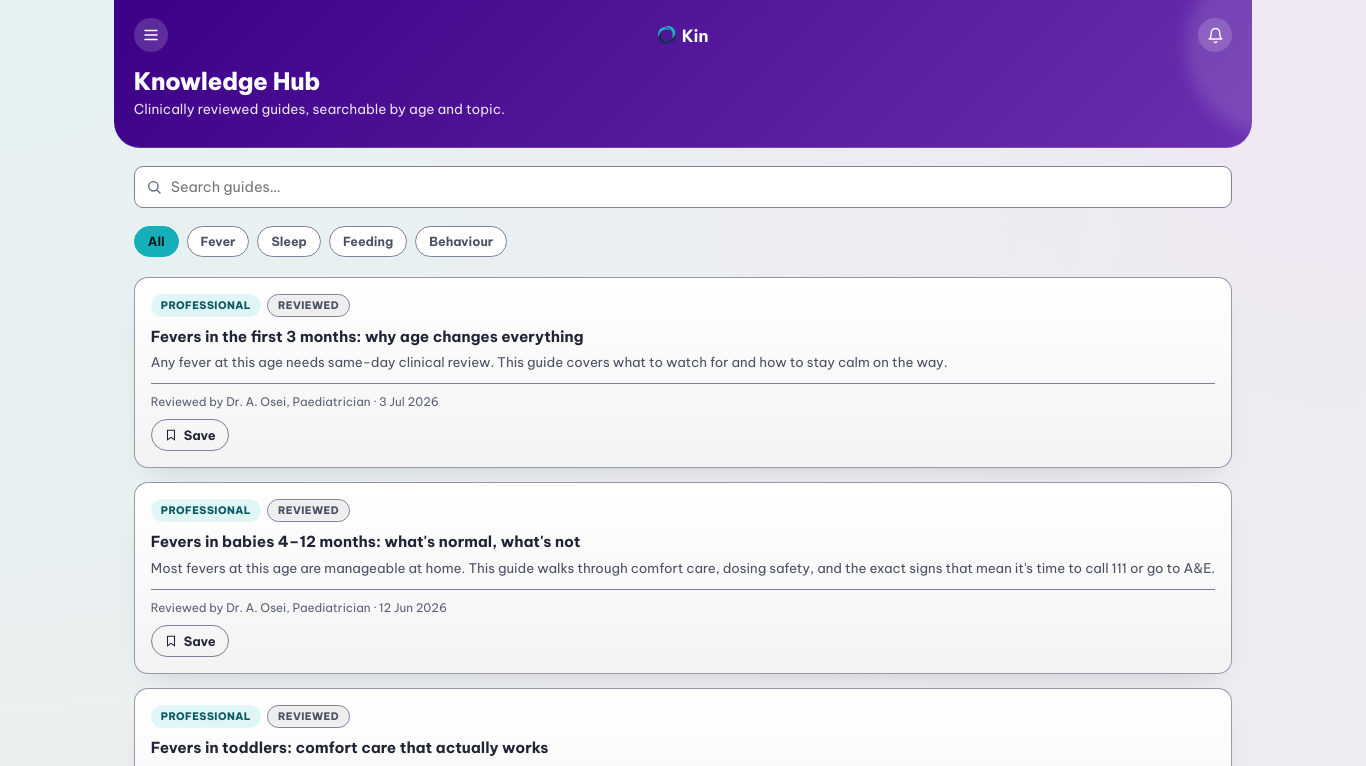
Test case: KnowledgeTab › filters by search text across title and excerpt
Type "chickenpox-does-not-match-anything" into the field with test id "knowledge-search".
click(683, 187); type("chickenpox-does-not-match-anything")  # box [134,166,1232,208]
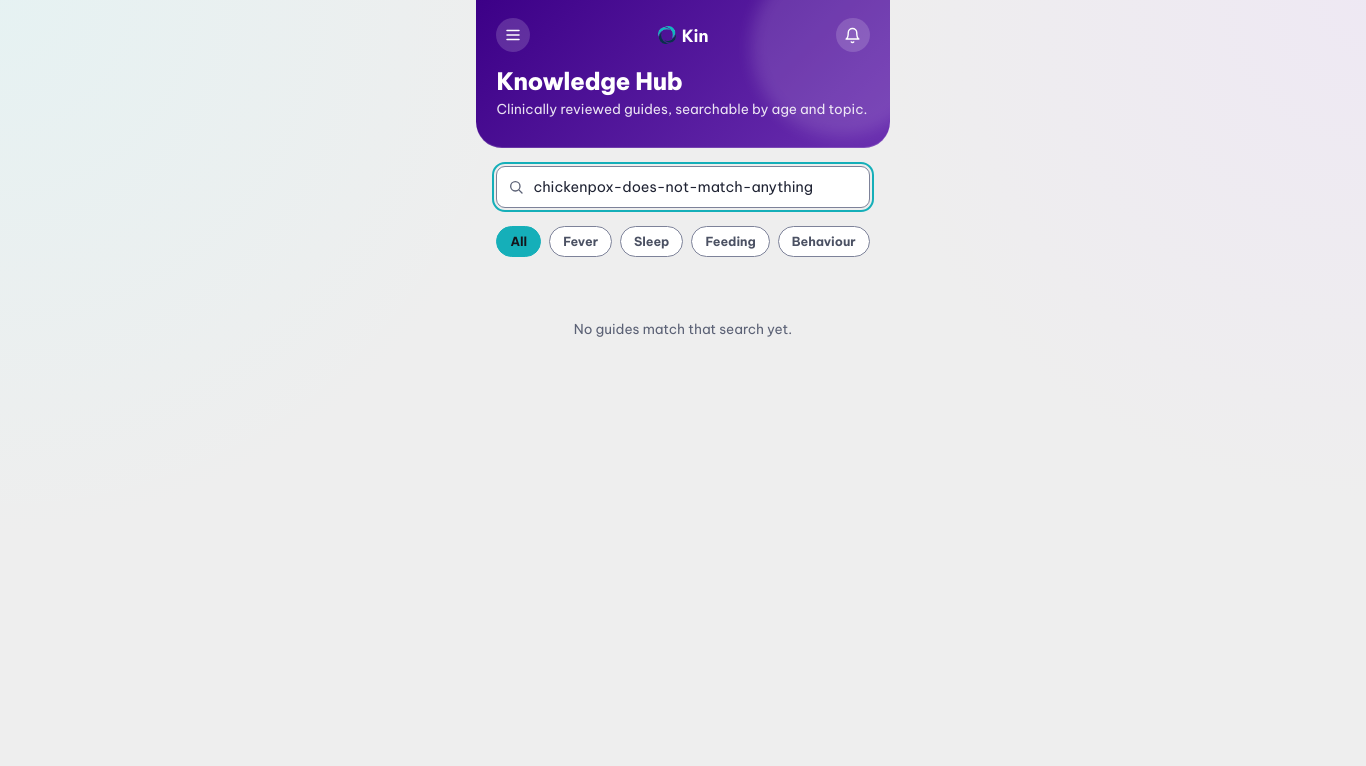
Expected: the text "No guides match that search yet." is shown, [574,320,792,338]
